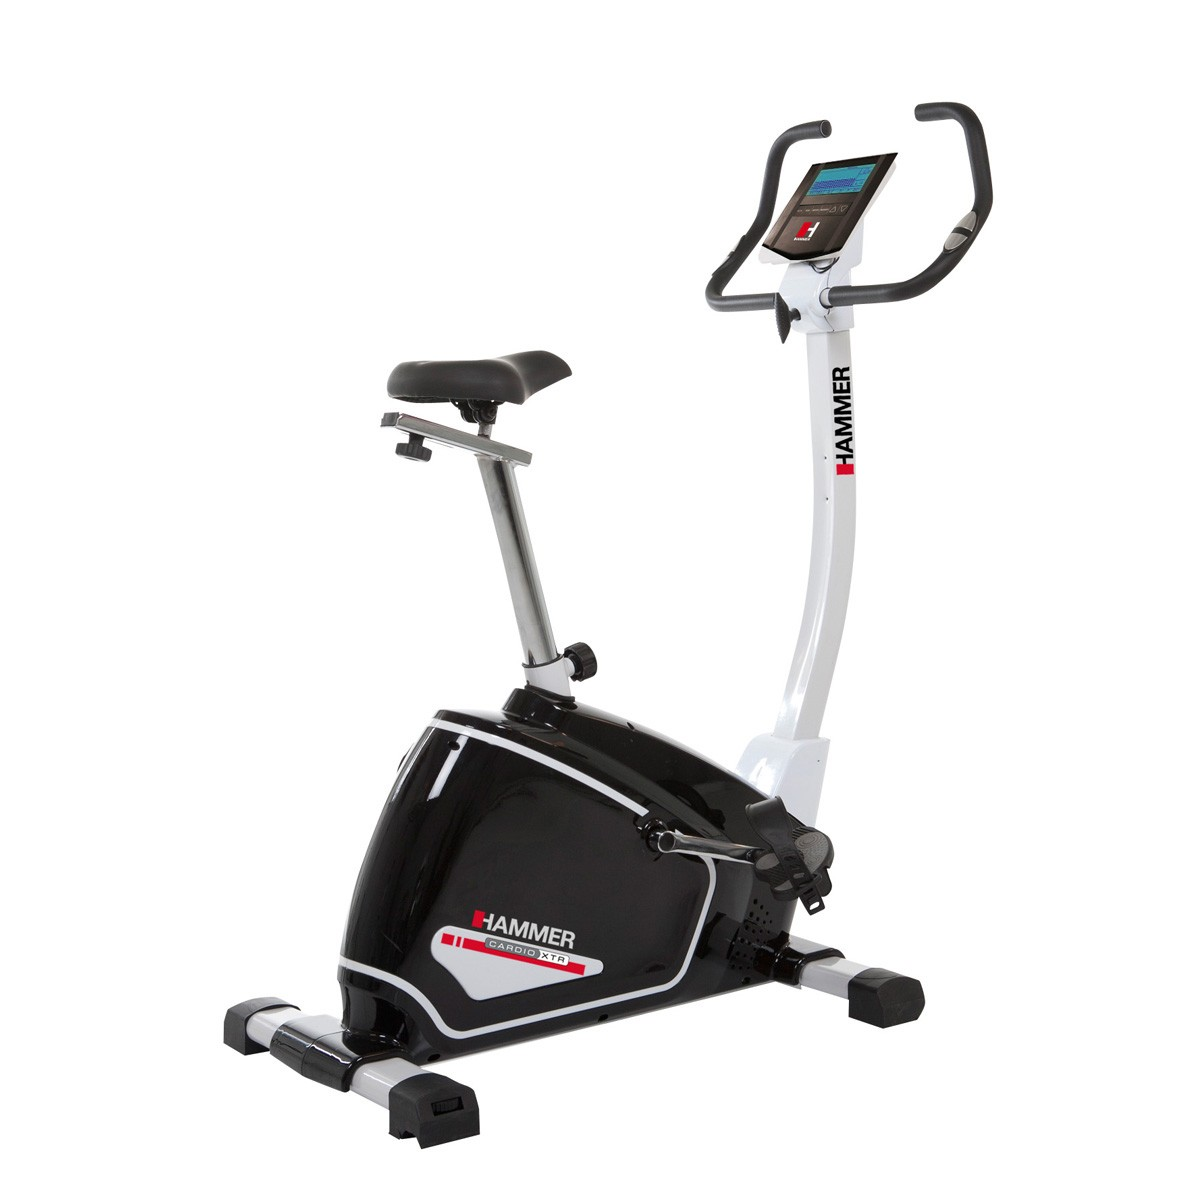gym_bike: (188, 71, 999, 1144)
